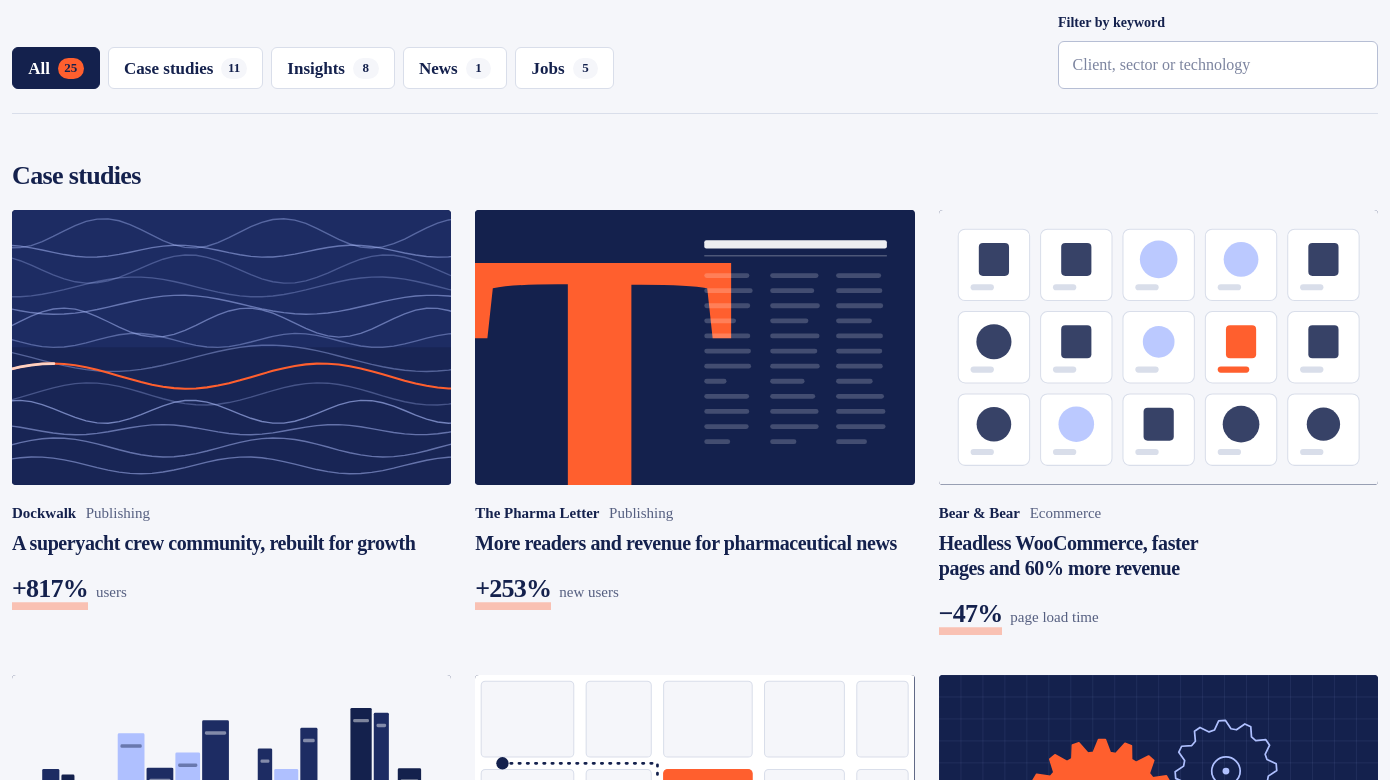
Test: <WorkIndex /> › offers a way out when nothing matches
This screenshot has width=1390, height=780.
Step 1. Type "zebra" into the search field labelled "Filter by keyword" → (1218, 65), box x1=1058 y1=41 x2=1378 y2=89
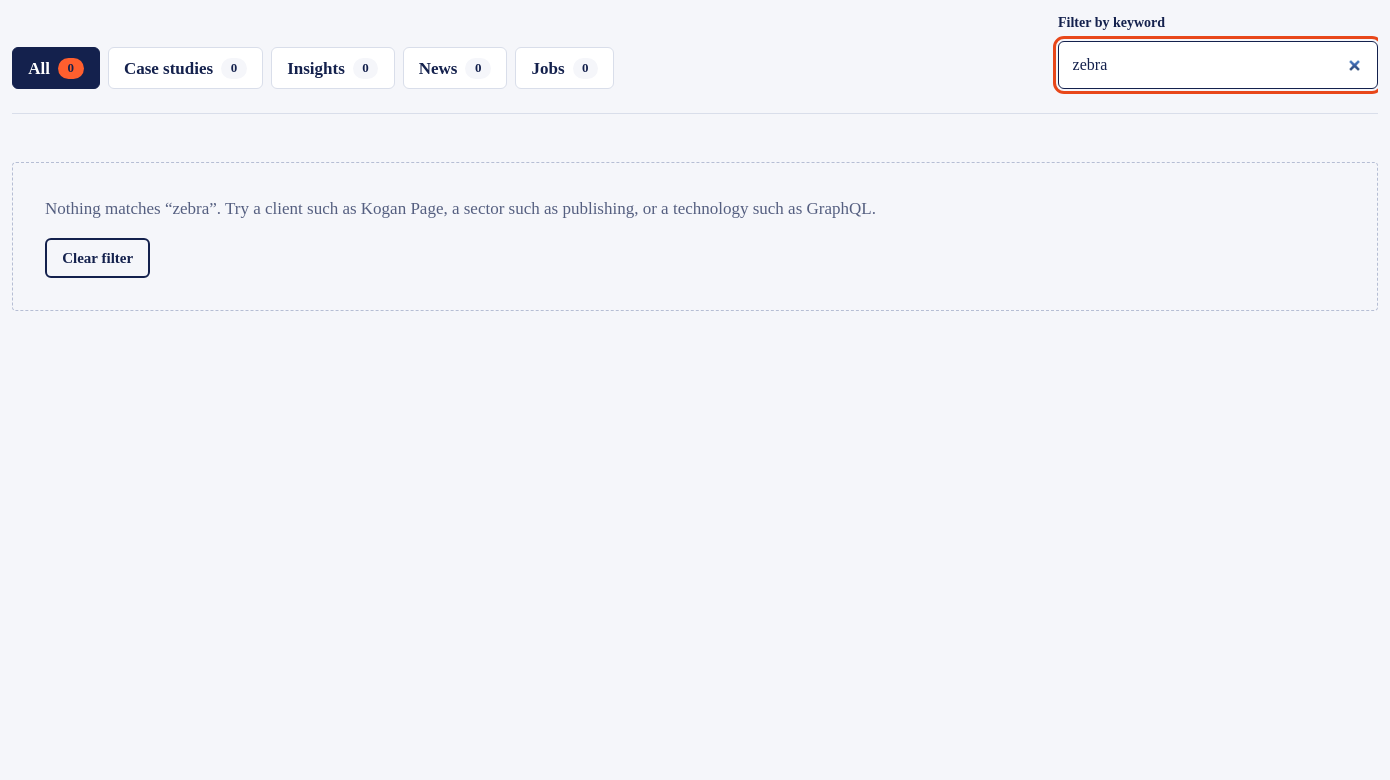
Now the text "Nothing matches “zebra”" is shown, box x1=45 y1=195 x2=876 y2=222
Step 2. Click the button "Clear filter" → (98, 258), box x1=45 y1=238 x2=150 y2=278
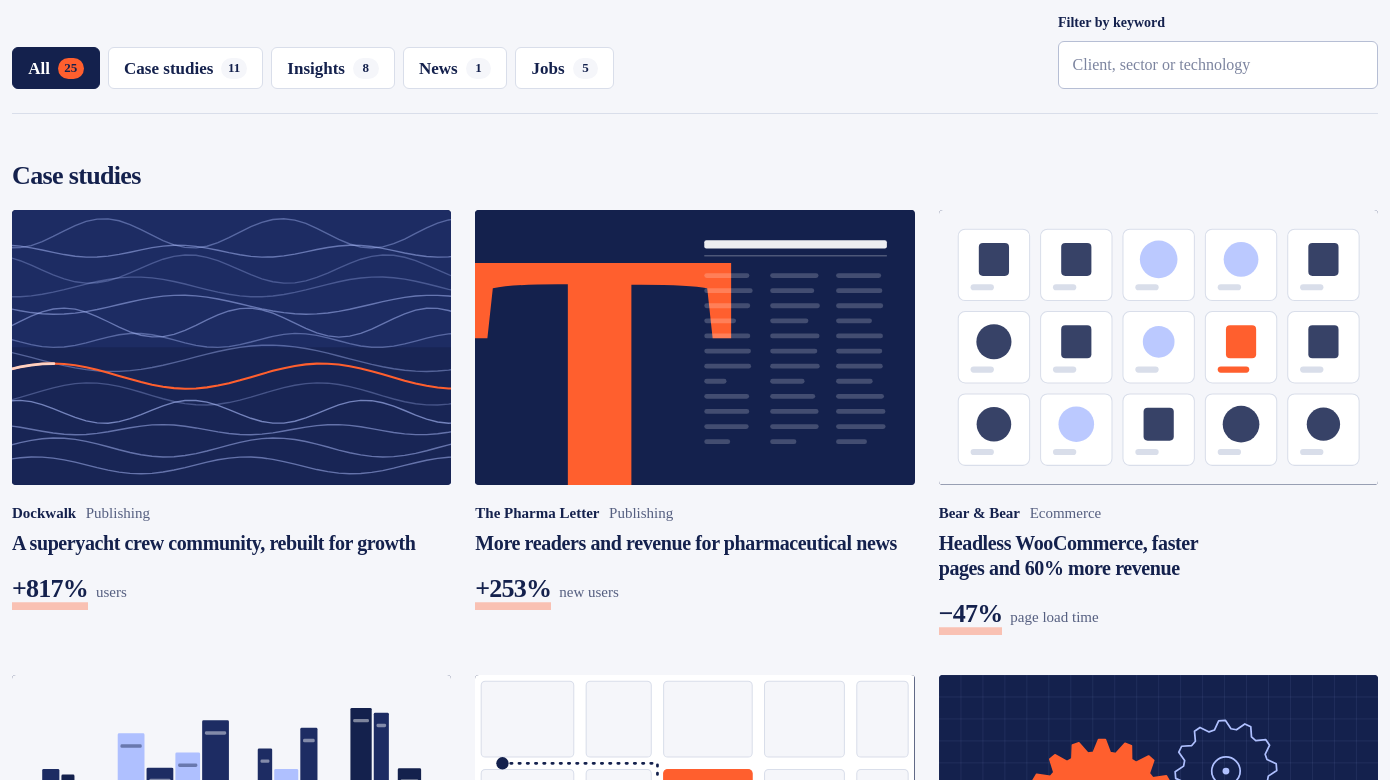
Now the search field labelled "Filter by keyword" is empty, box x1=1058 y1=41 x2=1378 y2=89
